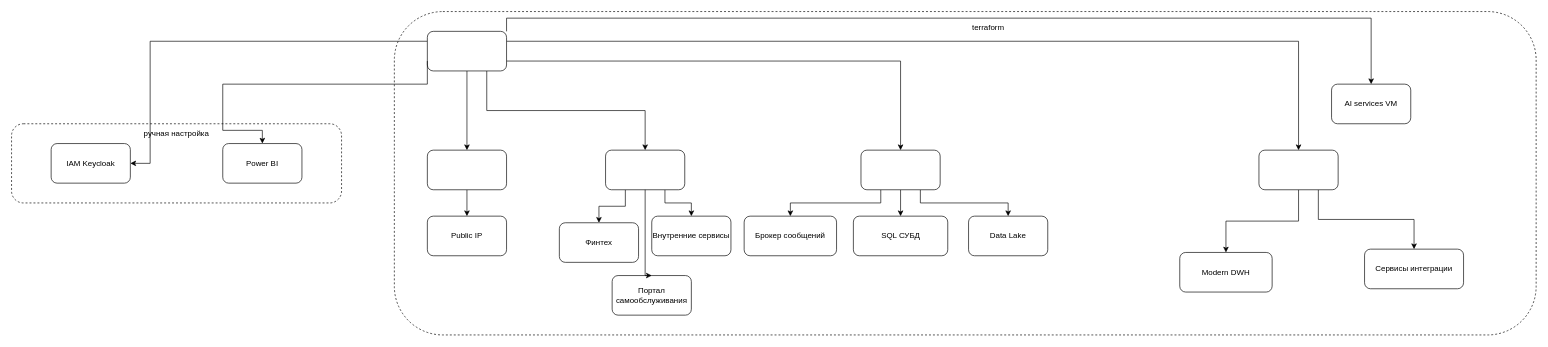
Some shapes in this 1548 by 347 pixel diagram are drawn without their labels. The shapes that lost their labels are listed below. From the top down, each one's centre as x and y in pixels, then its label:
the point at 467,51: Внутренняя сеть
the point at 467,169: API Gateway
the point at 645,169: Internal services VM
the point at 900,169: DB & RabbitMQ VM
the point at 1298,169: DWH services VM
